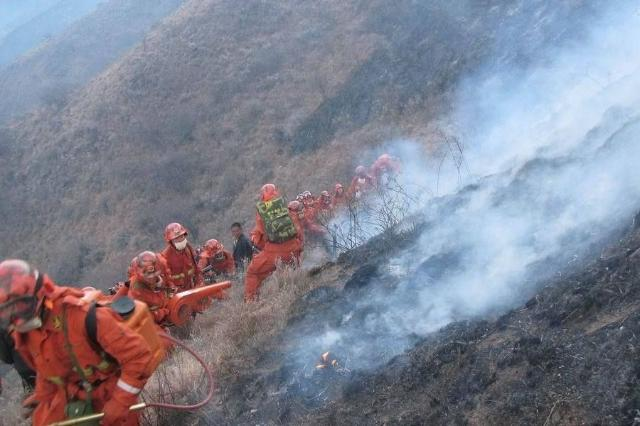fire: (314, 351, 336, 370)
smoke: (287, 1, 640, 398)
